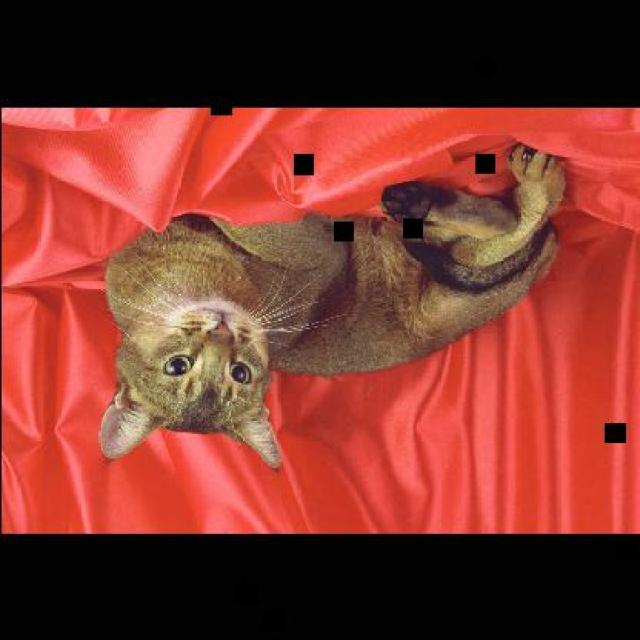unauthorized: (97, 142, 566, 469)
